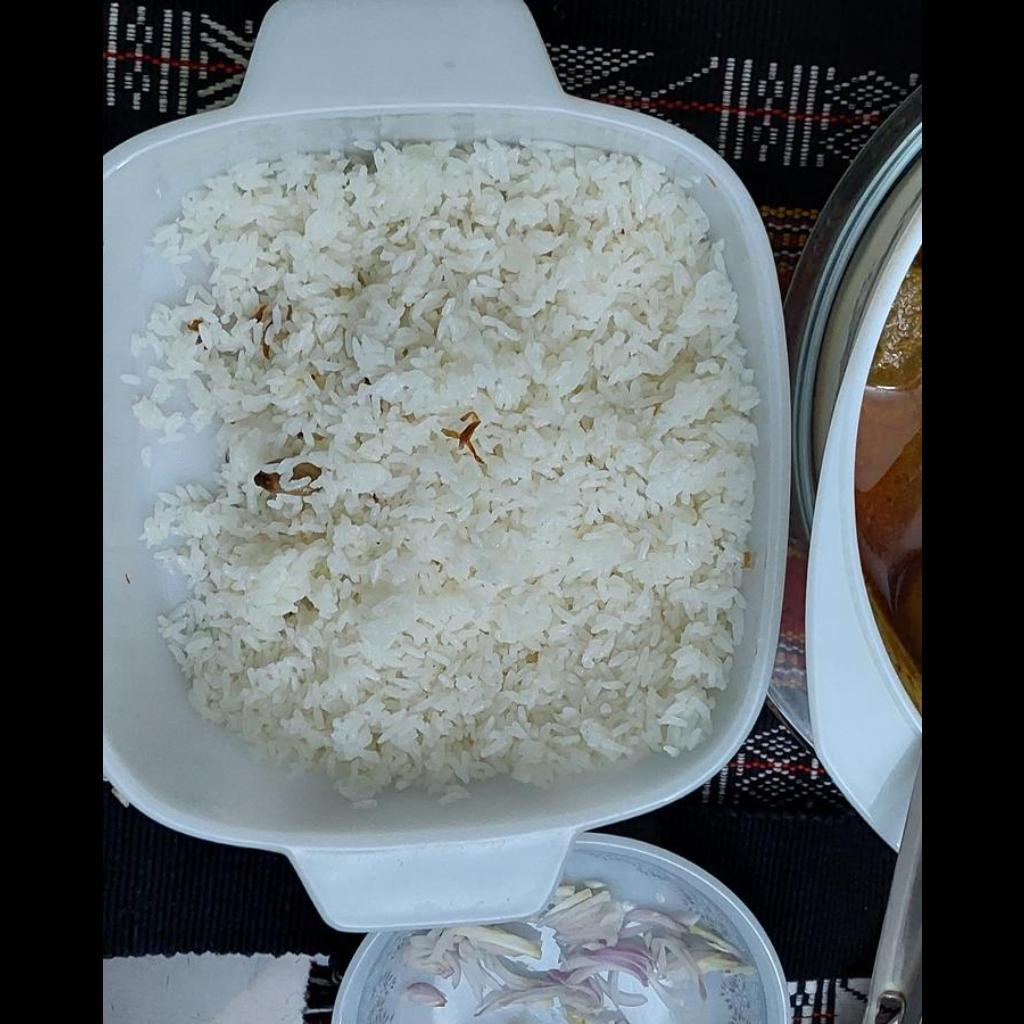rice: (136, 135, 760, 802)
